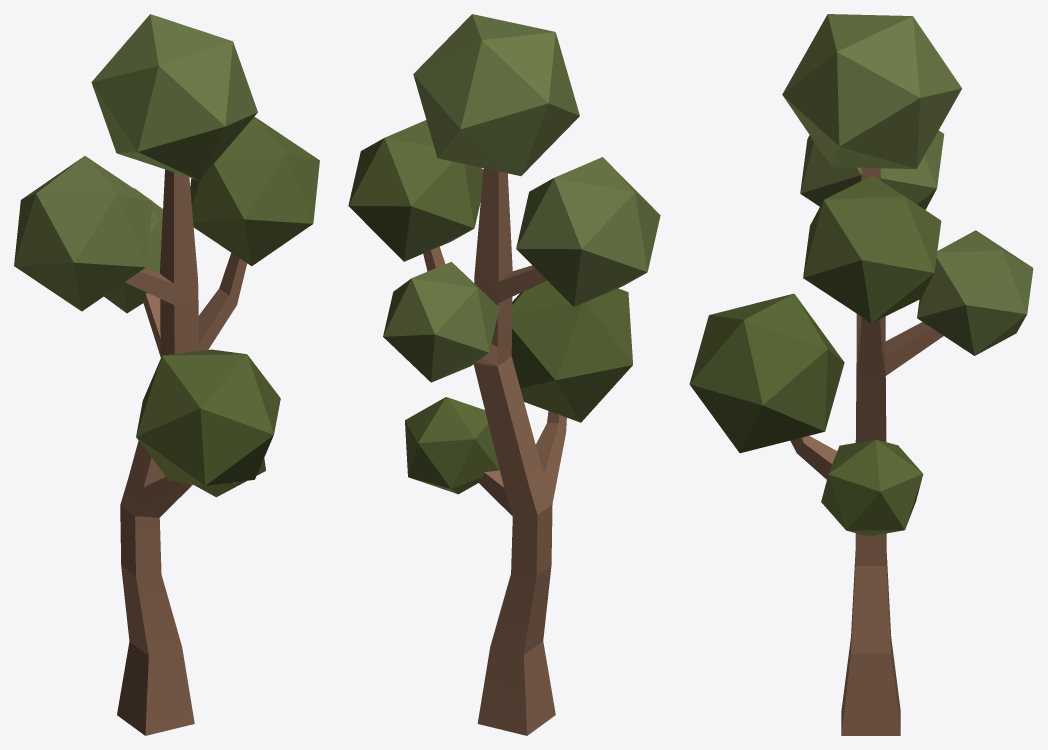
The model's file is deciduous_tree_13.fbx.
3 views of the same model, side by side, from view 1: azimuth 30°, elevation 25°; view 2: azimuth 150°, elevation 25°; view 3: azimuth 270°, elevation 25° (orthographic). The views are drawn at different scales.
Visible parts, largest first — view 1: deciduous_tree_13; view 2: deciduous_tree_13; view 3: deciduous_tree_13.
Boxes of the visible parts, x1,y1,x2,y2 form: deciduous_tree_13: (14, 14, 319, 735); deciduous_tree_13: (348, 14, 660, 735); deciduous_tree_13: (689, 14, 1033, 735).
Size of the model in its own units: 314 by 697 by 304.
